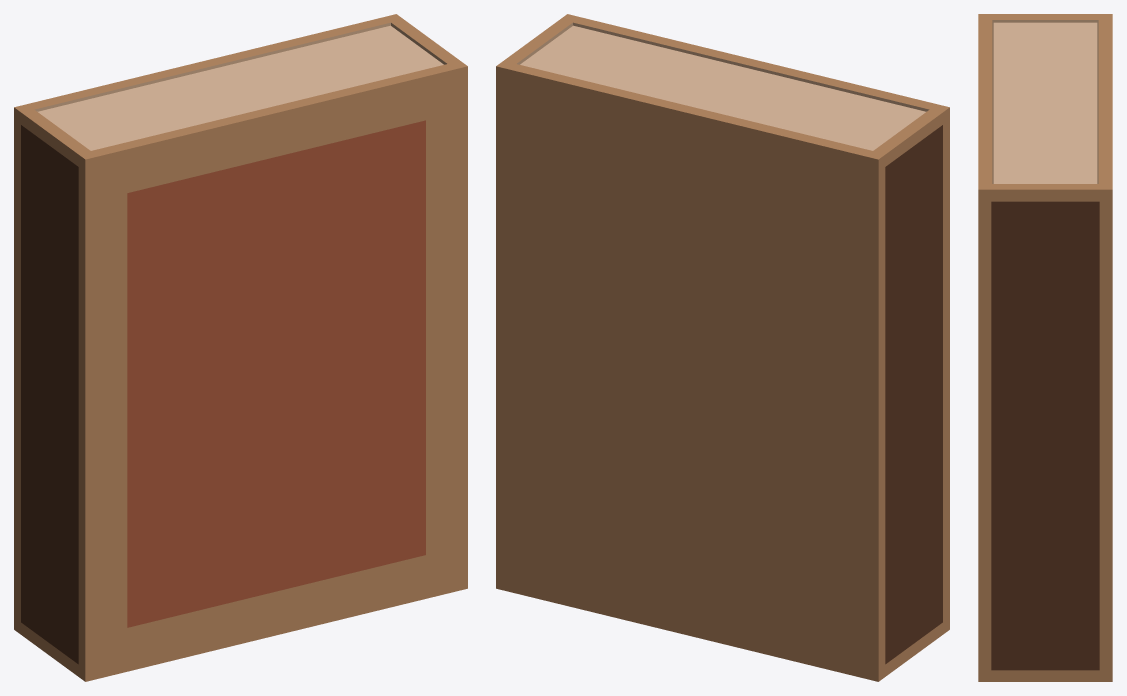
File: Matchbox_01.fbx
The picture shows the model from 3 angles, left to right: view 1: azimuth 30°, elevation 25°; view 2: azimuth 150°, elevation 25°; view 3: azimuth 270°, elevation 25°; orthographic projection. The views are drawn at different scales.
Visible parts, largest first — view 1: Matchbox_01, Matchbox_01_2; view 2: Matchbox_01, Matchbox_01_2; view 3: Matchbox_01, Matchbox_01_2.
Boxes of the visible parts, bbox=[...] form: Matchbox_01: bbox=[14, 14, 467, 681]; Matchbox_01_2: bbox=[37, 25, 443, 150]; Matchbox_01: bbox=[496, 14, 949, 681]; Matchbox_01_2: bbox=[520, 25, 926, 150]; Matchbox_01: bbox=[978, 14, 1112, 681]; Matchbox_01_2: bbox=[993, 22, 1097, 183].
Bounding box in the file's own units: 5.17 × 6.75 × 1.67.
